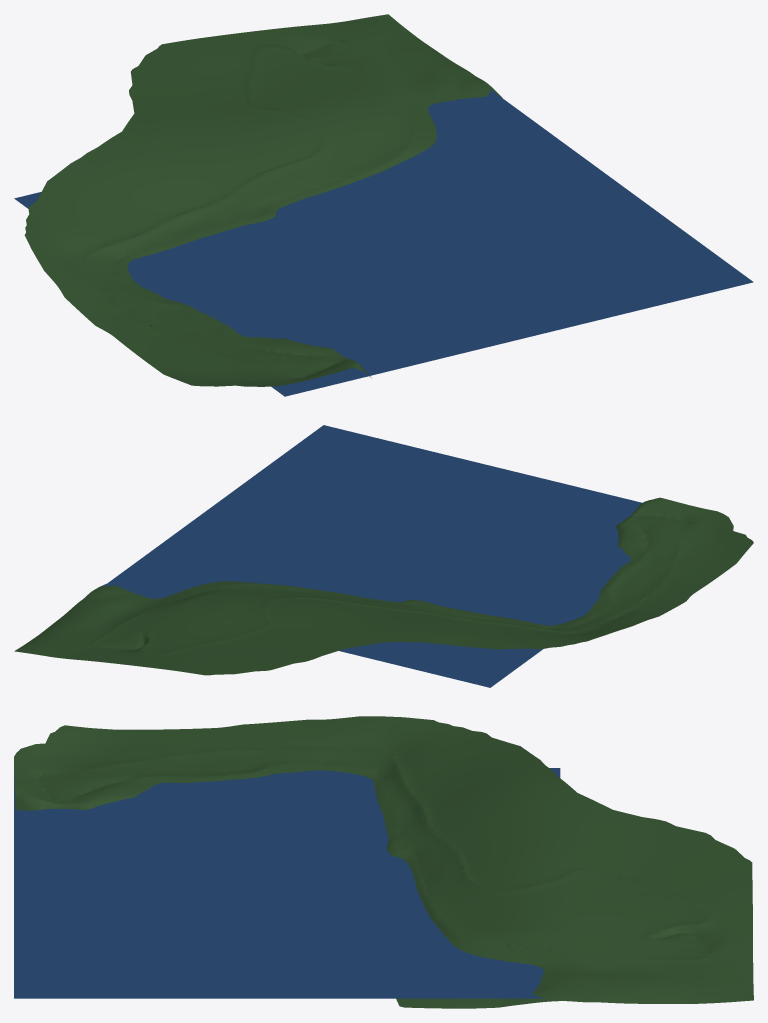
File: monaco.dae
3 renders of one model, top to bottom at view 1: azimuth 30°, elevation 25°; view 2: azimuth 150°, elevation 25°; view 3: azimuth 270°, elevation 25°, orthographic. The views are drawn at different scales.
Parts seen in each view (by area): view 1: agua, tierra; view 2: agua, tierra; view 3: tierra, agua.
Boxes of the visible parts, x1=… form: agua: x1=14, y1=89, x2=753, y2=396; tierra: x1=24, y1=14, x2=502, y2=386; agua: x1=102, y1=425, x2=642, y2=687; tierra: x1=14, y1=497, x2=753, y2=675; tierra: x1=14, y1=716, x2=753, y2=1008; agua: x1=14, y1=768, x2=560, y2=998.
Bounding box in the file's own units: 1287 × 1491 × 93.68.
